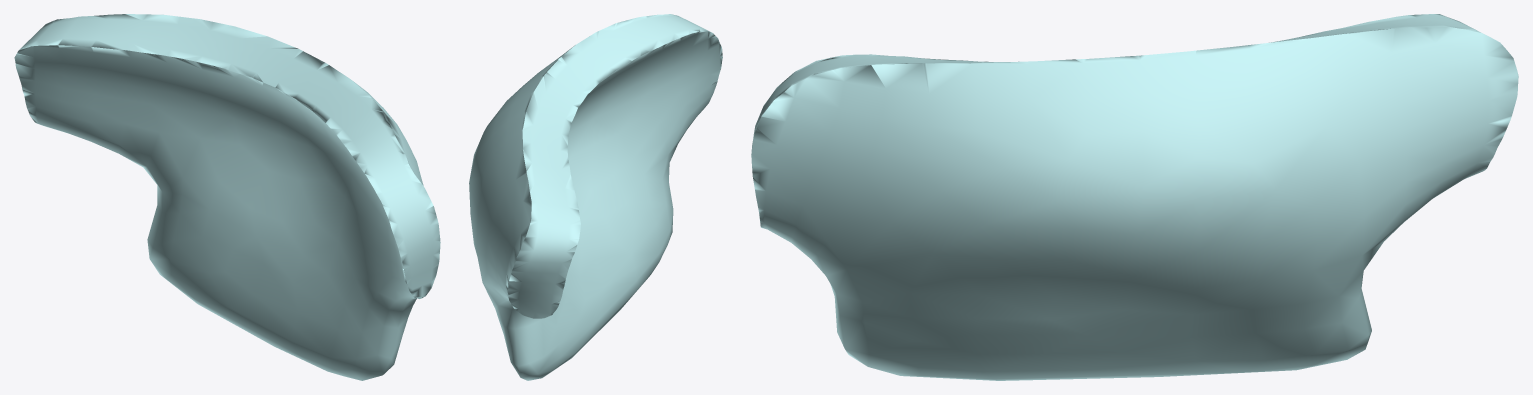
Rendered from RathkesPouch_Puzzle.fbx.
3 renders of one model, left to right at view 1: azimuth 30°, elevation 25°; view 2: azimuth 150°, elevation 25°; view 3: azimuth 270°, elevation 25°, orthographic. The views are drawn at different scales.
Visible parts, largest first — view 1: RathkesPouch; view 2: RathkesPouch; view 3: RathkesPouch.
Boxes of the visible parts, x1,y1,x2,y2 form: RathkesPouch: (14, 14, 440, 380); RathkesPouch: (469, 14, 722, 380); RathkesPouch: (751, 14, 1518, 380).
Size of the model in its own units: 2.39 by 2.75 by 5.4.
